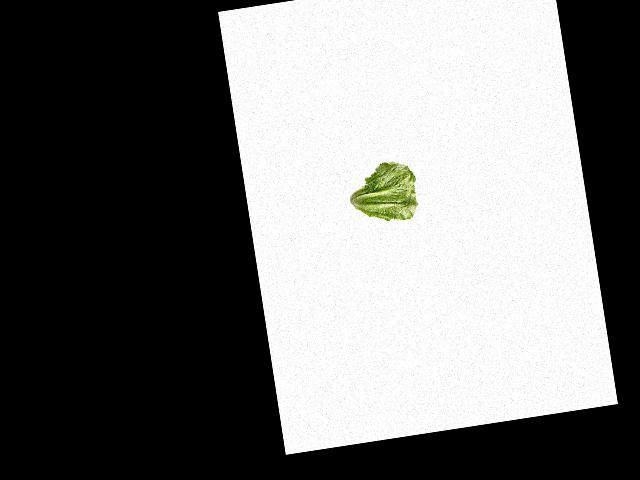lettuce: (341, 155, 422, 226)
